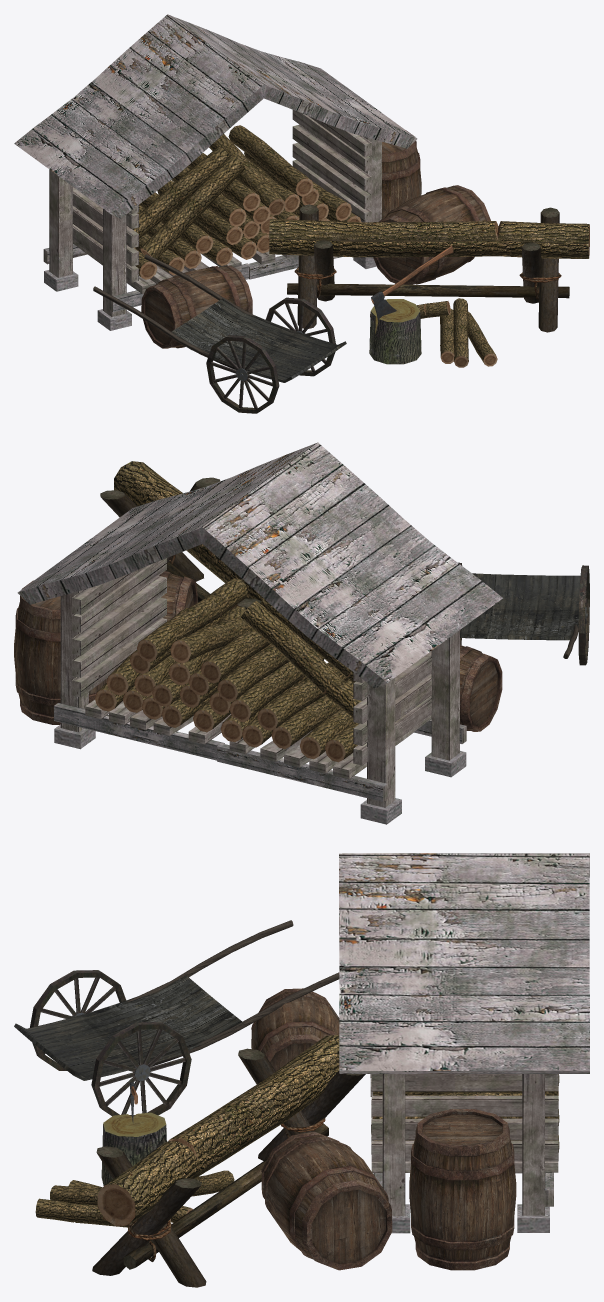
Rendered from bois__charette.glb.
3 views of the same model, one above another, from view 1: azimuth 30°, elevation 25°; view 2: azimuth 150°, elevation 25°; view 3: azimuth 270°, elevation 25° (orthographic). The views are drawn at different scales.
Visible parts, largest first — view 1: Woodshack_left, Woodshack_right, Cart1, Log_Big, Wood_stand, Barrel_4, Barrel_3, Log_Small, Log_Big26, Barrel_2, Log_Big35, Log_Big23 (+12 smaller); view 2: Woodshack_left, Woodshack_right, Cart1, Barrel_2, Log_Big35, Barrel_4, Log_Big23, Log_Big, Log_Big16, Log_Big22, Log_Big18, Wood_stand (+18 smaller); view 3: Woodshack_right, Cart1, Barrel_2, Barrel_3, Log_Big, Wood_stand, Barrel_4, Log_Small, Log_Big31, Log_Big29, Log_Big30.
Boxes of the visible parts, box(x1,y1,x2,y2) form: Woodshack_left: box(14, 14, 263, 330); Woodshack_right: box(168, 14, 417, 279); Cart1: box(93, 254, 346, 413); Log_Big: box(269, 219, 589, 258); Wood_stand: box(287, 204, 569, 332); Barrel_4: box(141, 265, 252, 348); Barrel_3: box(373, 185, 490, 284); Log_Small: box(369, 299, 421, 364); Log_Big26: box(140, 155, 245, 259); Barrel_2: box(382, 130, 421, 218); Log_Big35: box(132, 146, 229, 238); Log_Big23: box(228, 125, 313, 196); Woodshack_left: box(202, 442, 502, 824); Woodshack_right: box(17, 442, 317, 760); Cart1: box(458, 562, 589, 665); Barrel_2: box(14, 580, 107, 724); Log_Big35: box(241, 600, 361, 718); Barrel_4: box(460, 645, 502, 731); Log_Big23: box(137, 578, 247, 661); Log_Big: box(114, 461, 263, 600); Log_Big16: box(229, 647, 324, 722); Log_Big22: box(170, 615, 251, 663); Log_Big18: box(217, 642, 309, 701); Wood_stand: box(100, 477, 261, 611); Woodshack_right: box(339, 853, 589, 1233); Cart1: box(14, 920, 339, 1116); Barrel_2: box(409, 1109, 516, 1270); Barrel_3: box(261, 1131, 392, 1270); Log_Big: box(97, 1035, 339, 1226); Wood_stand: box(92, 1048, 365, 1287); Barrel_4: box(251, 988, 339, 1070); Log_Small: box(101, 1112, 166, 1185); Log_Big31: box(35, 1198, 170, 1227); Log_Big29: box(50, 1185, 101, 1205); Log_Big30: box(191, 1170, 234, 1196).
Size of the model in its own units: 235 by 116 by 206.
Materials: 3 (3 with a texture image).
